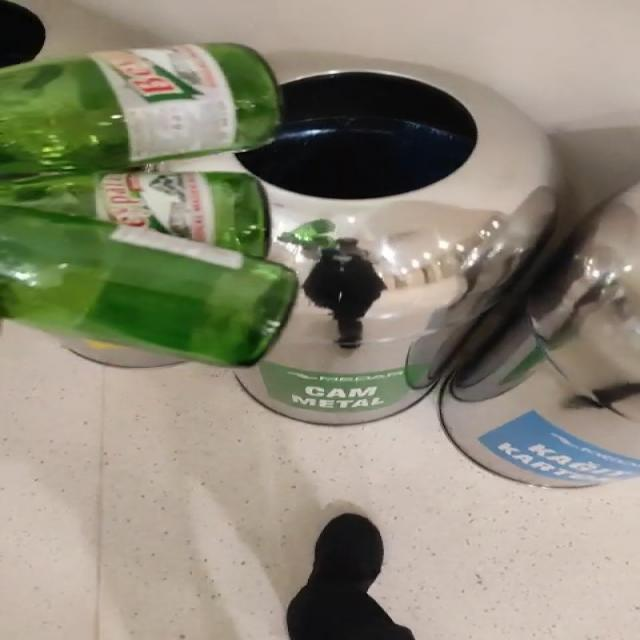Bin: (159, 52, 559, 425)
Glass: (3, 44, 297, 366)
